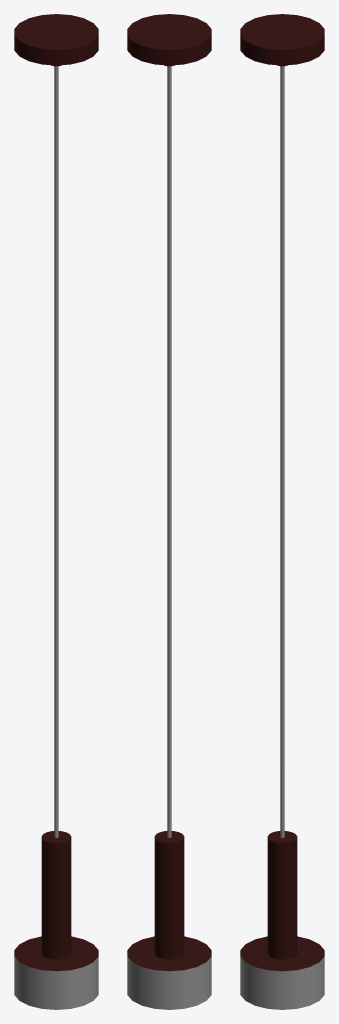
Rendered from lamp_02.obj.
3 views of the same model, side by side, from view 1: azimuth 30°, elevation 25°; view 2: azimuth 210°, elevation 25°; view 3: azimuth 330°, elevation 25° (orthographic).
Parts seen in each view (by area): view 1: lamp_02.001_Mesh.019; view 2: lamp_02.001_Mesh.019; view 3: lamp_02.001_Mesh.019.
Part boxes in pixels (left/top/right/bottom): lamp_02.001_Mesh.019: left=14, top=14, right=98, bottom=1009; lamp_02.001_Mesh.019: left=127, top=14, right=211, bottom=1009; lamp_02.001_Mesh.019: left=240, top=14, right=324, bottom=1009.
Size of the model in its own units: 0.1 by 1.24 by 0.0985.
